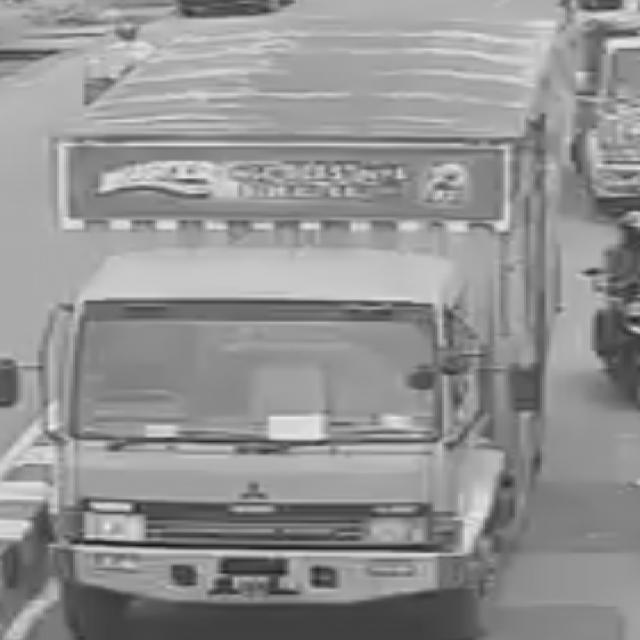Truck: (27, 23, 610, 629)
